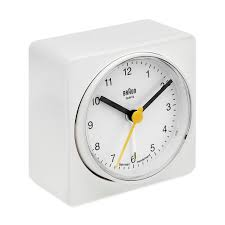alarm_clock: (17, 16, 196, 206), (26, 16, 196, 206), (22, 25, 197, 206)
